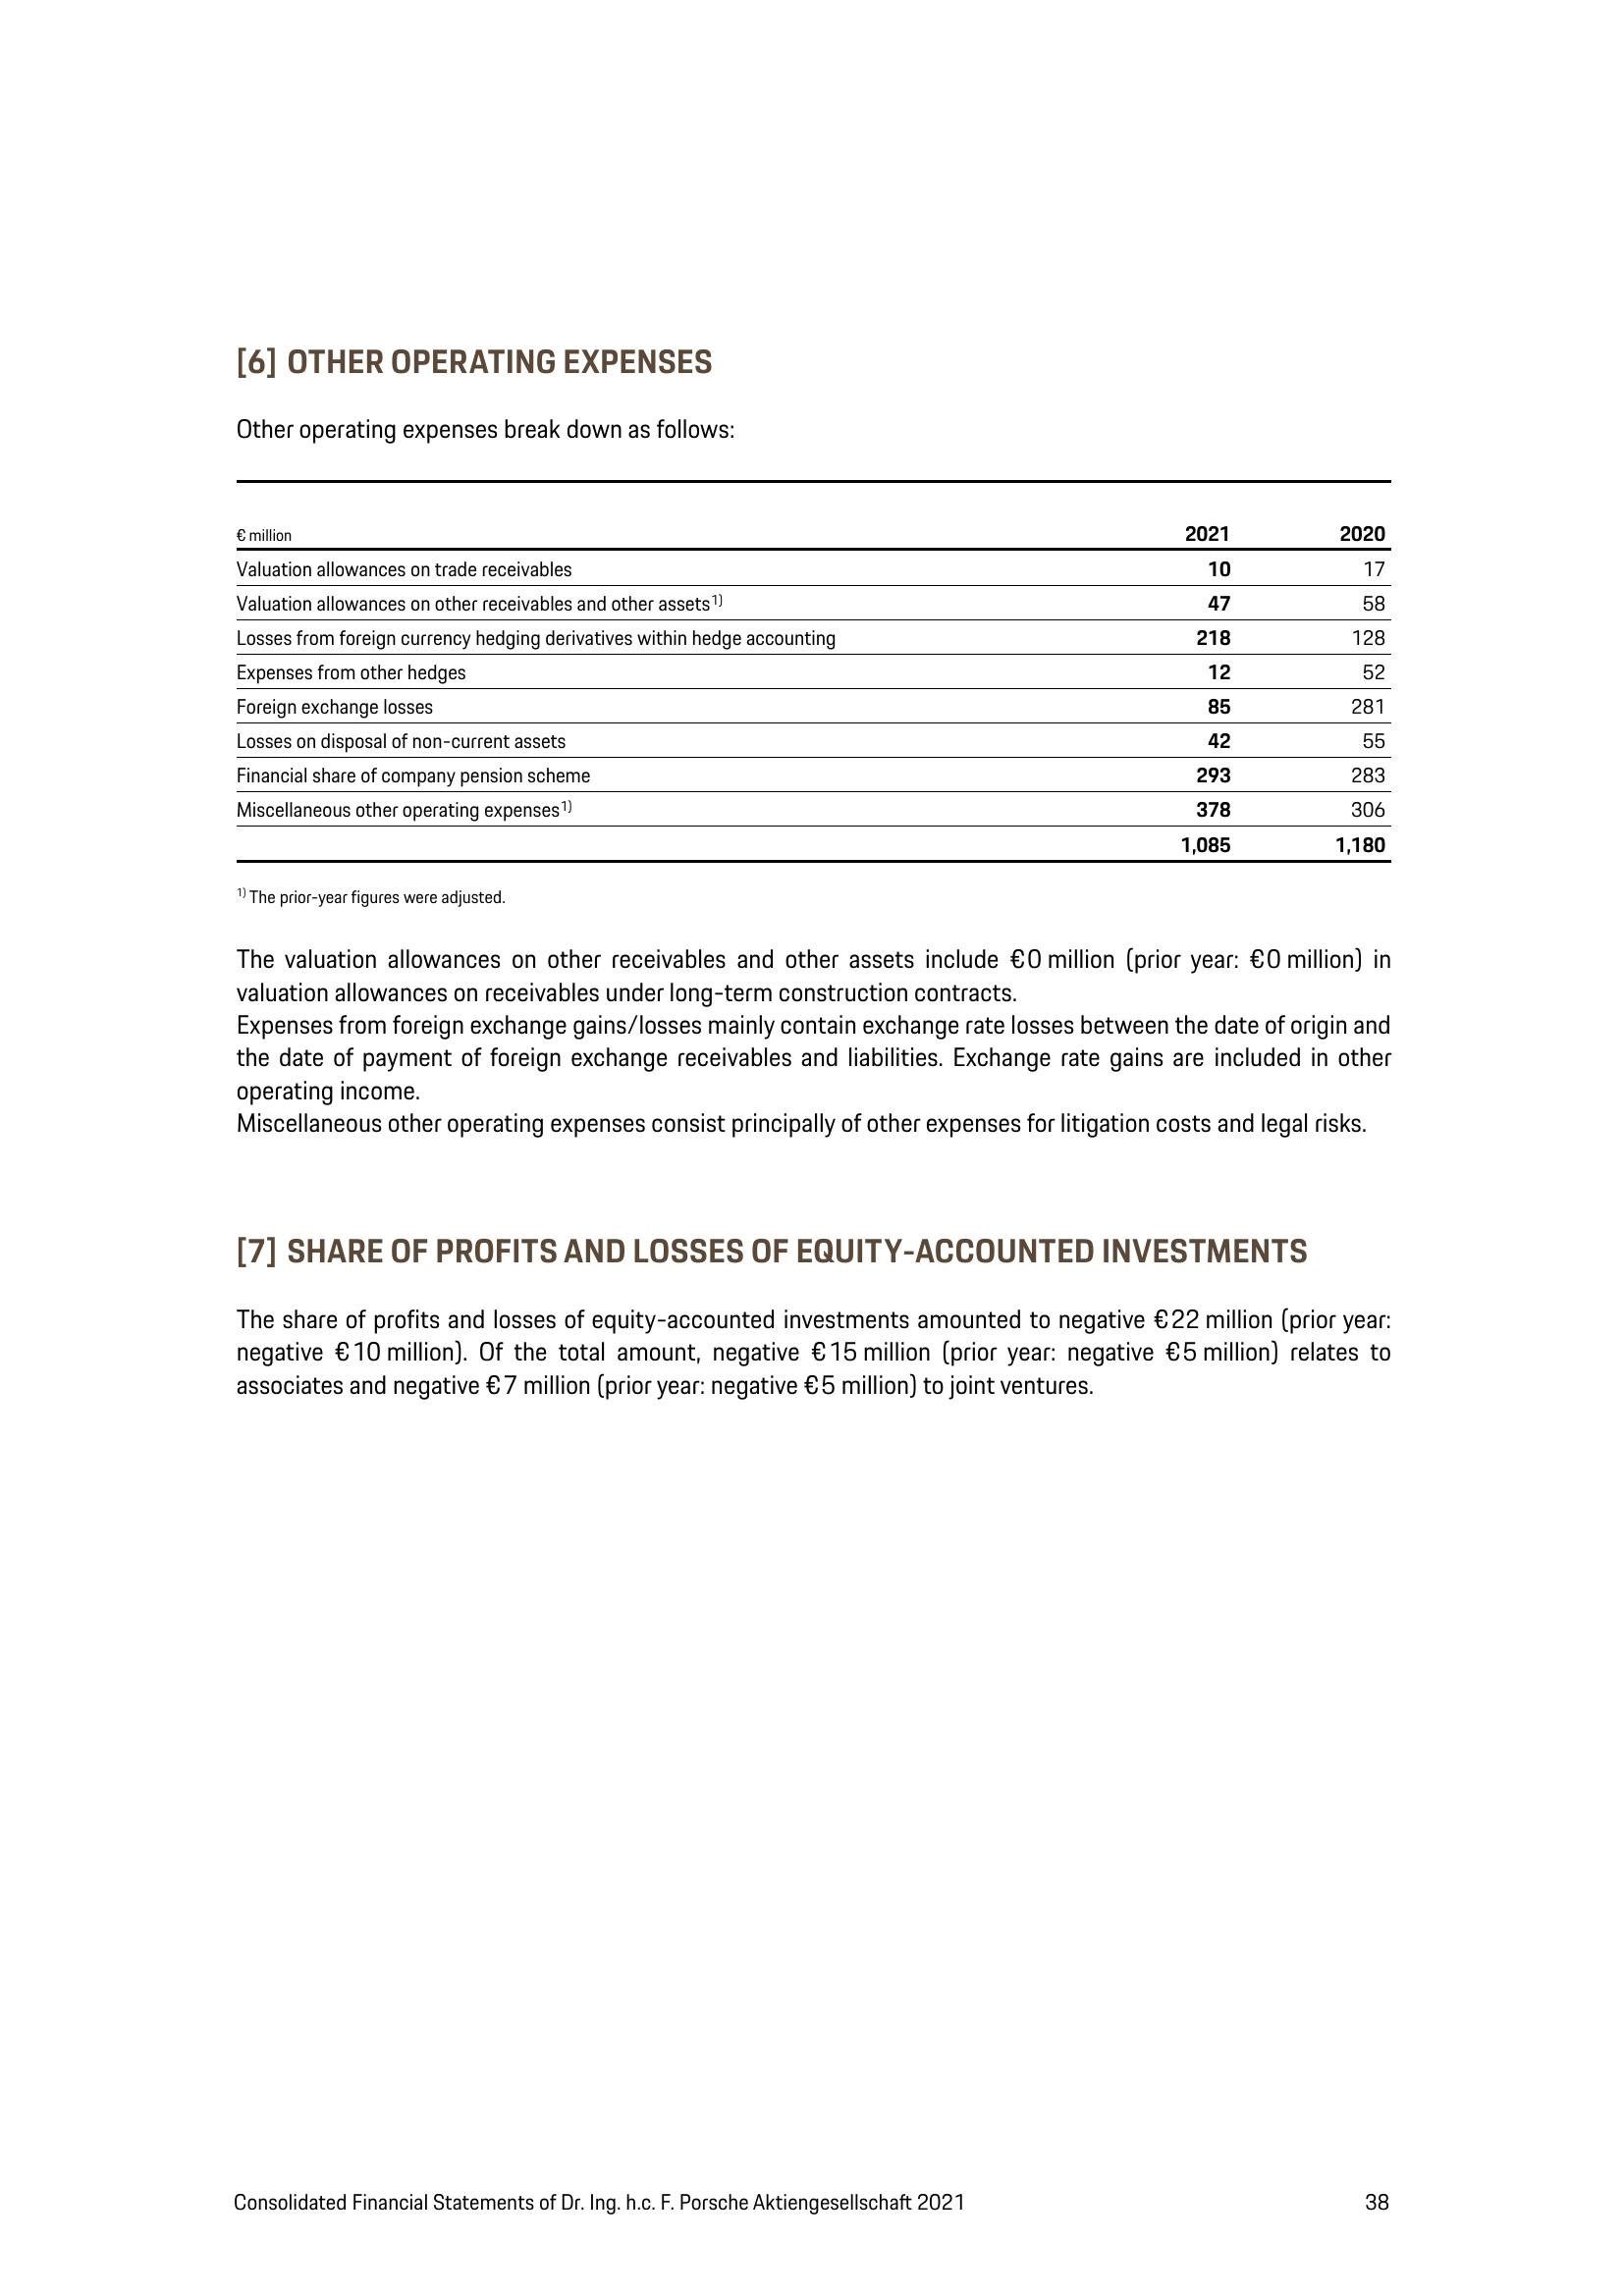Footer: (0, 2126, 1624, 2296)
Header: (0, 0, 1624, 188)
Table: (172, 480, 1425, 864)
